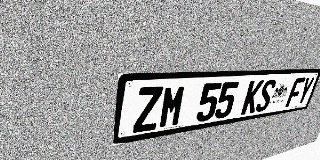5: (195, 82, 222, 123), (214, 81, 239, 119)
F: (285, 77, 306, 107)
K: (240, 80, 264, 115)
M: (158, 85, 187, 129)
S: (254, 79, 277, 112)
Y: (295, 77, 315, 105)
Z: (132, 86, 163, 133)
